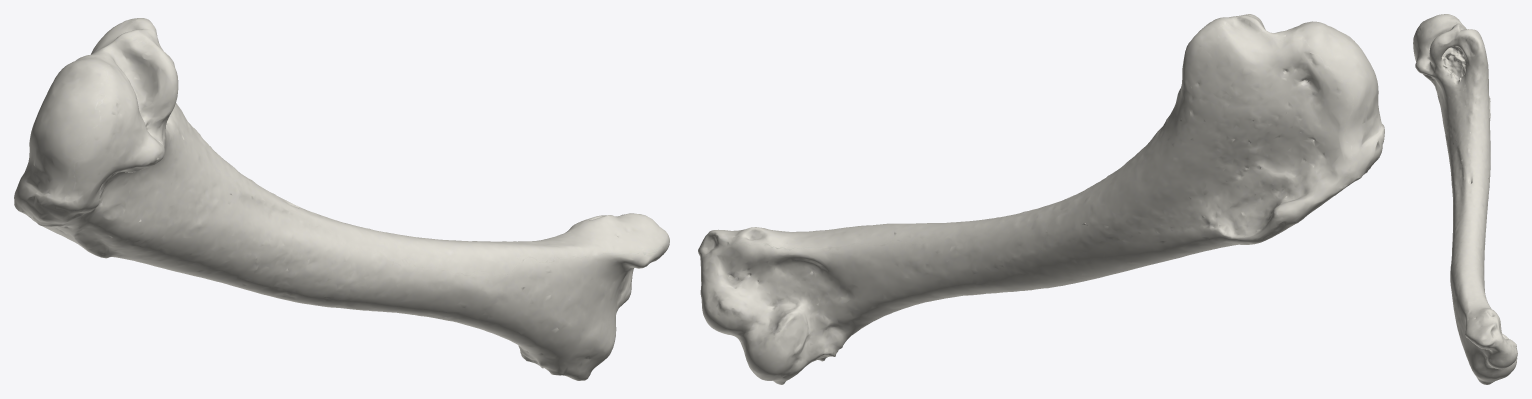
File: brachial_bone_humerus_chicken.glb
The picture shows the model from 3 angles, left to right: view 1: azimuth 30°, elevation 25°; view 2: azimuth 150°, elevation 25°; view 3: azimuth 270°, elevation 25°; orthographic projection. The views are drawn at different scales.
Parts seen in each view (by area): view 1: Humerus_li_Huhn.001; view 2: Humerus_li_Huhn.001; view 3: Humerus_li_Huhn.001.
Boxes of the visible parts, box(x1,y1,x2,y2) form: Humerus_li_Huhn.001: box(14, 18, 669, 380); Humerus_li_Huhn.001: box(698, 14, 1384, 384); Humerus_li_Huhn.001: box(1413, 14, 1517, 384).
Size of the model in its own units: 7140 by 4852 by 1897.
Materials: 1 (1 with a texture image).
